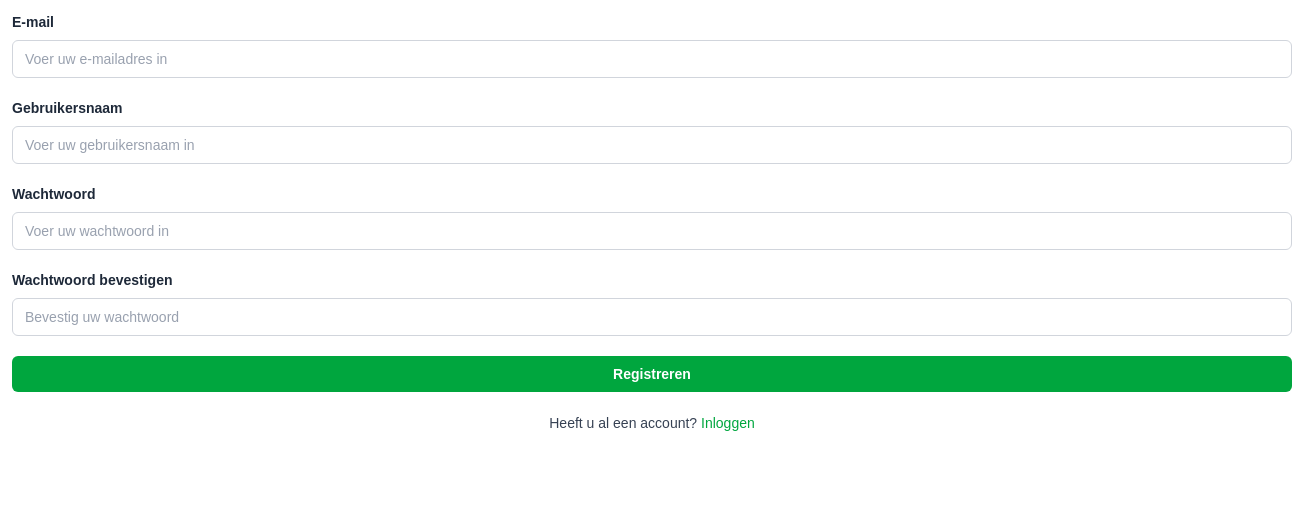
RegisterForm › shows server-provided message on 400 response
Type "user@example.com" into the field with test id "email-input" at [652, 59], box x1=12 y1=40 x2=1292 y2=78
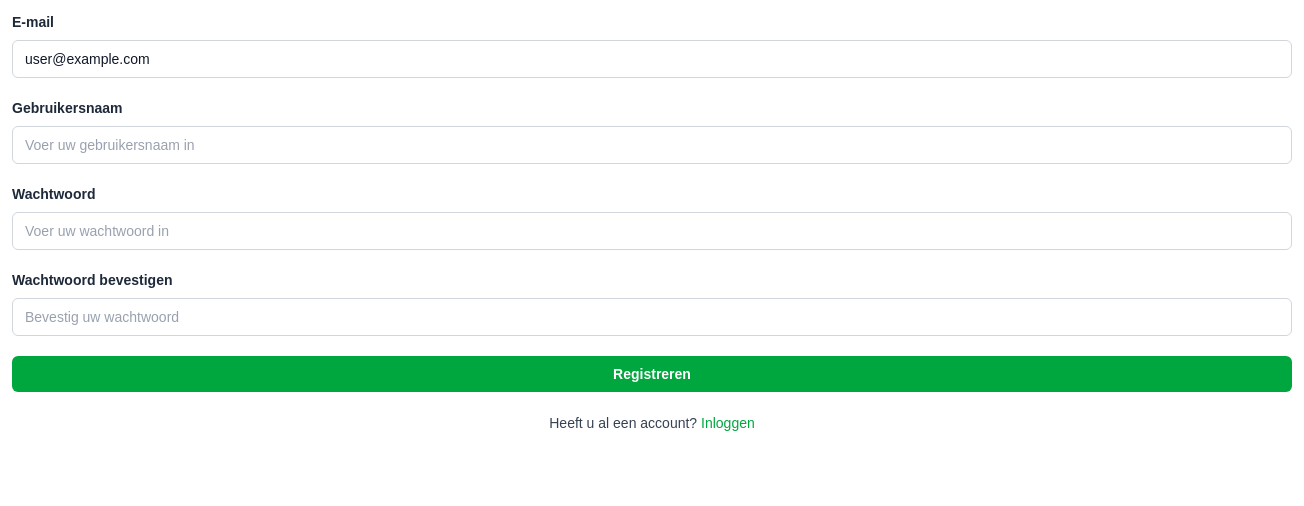
Type "testuser" into the field with test id "username-input" at [652, 145], box x1=12 y1=126 x2=1292 y2=164
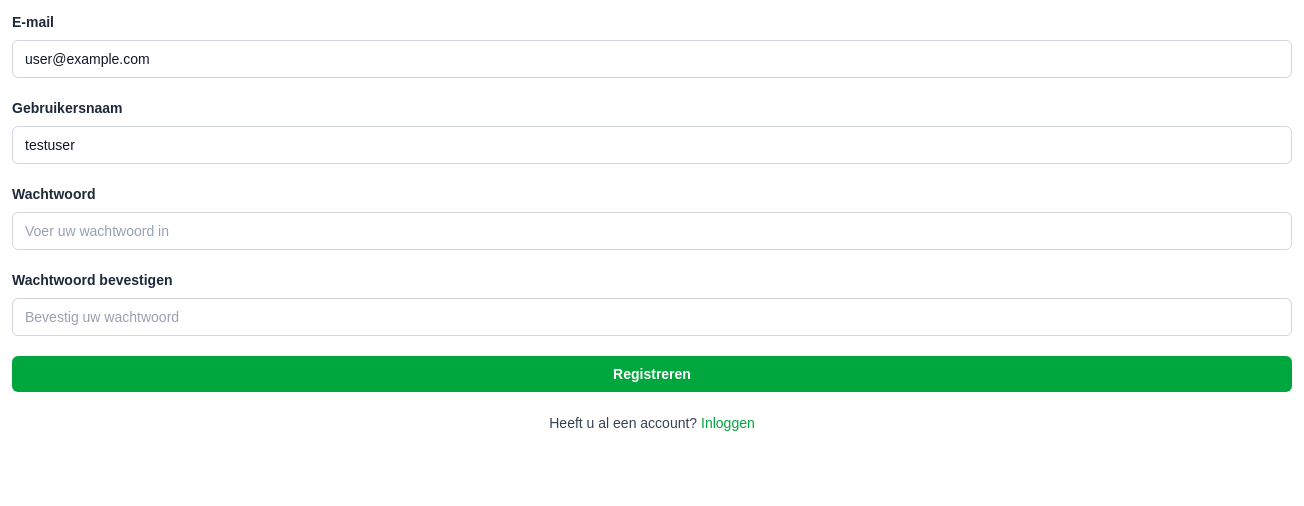
Type "password123" into the password field with test id "password-input" at [652, 231], box x1=12 y1=212 x2=1292 y2=250
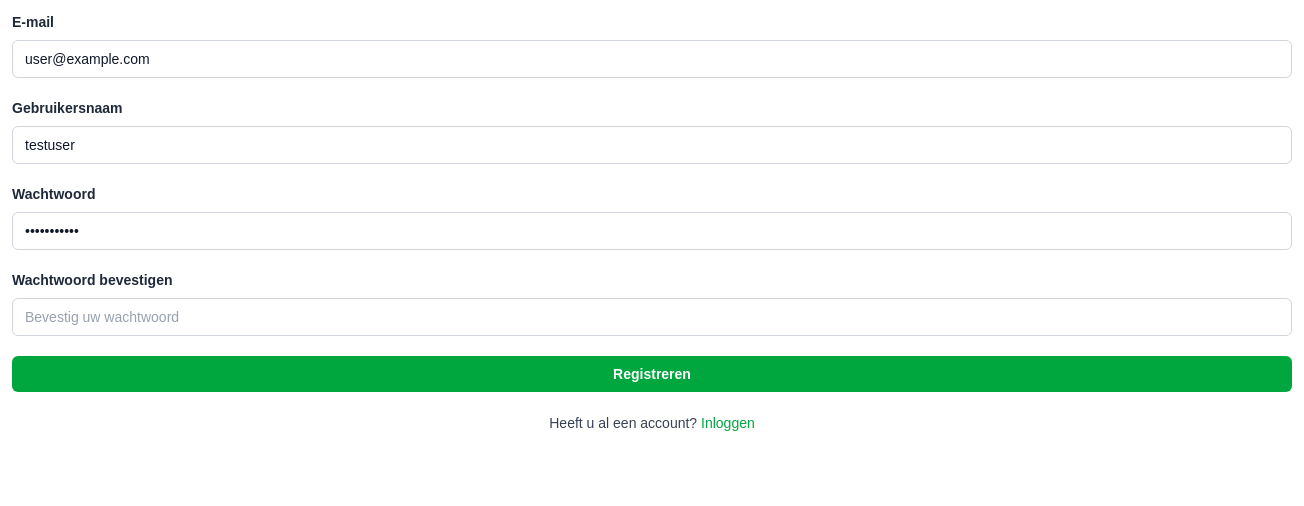
Type "password123" into the password field with test id "confirm-password-input" at [652, 317], box x1=12 y1=298 x2=1292 y2=336
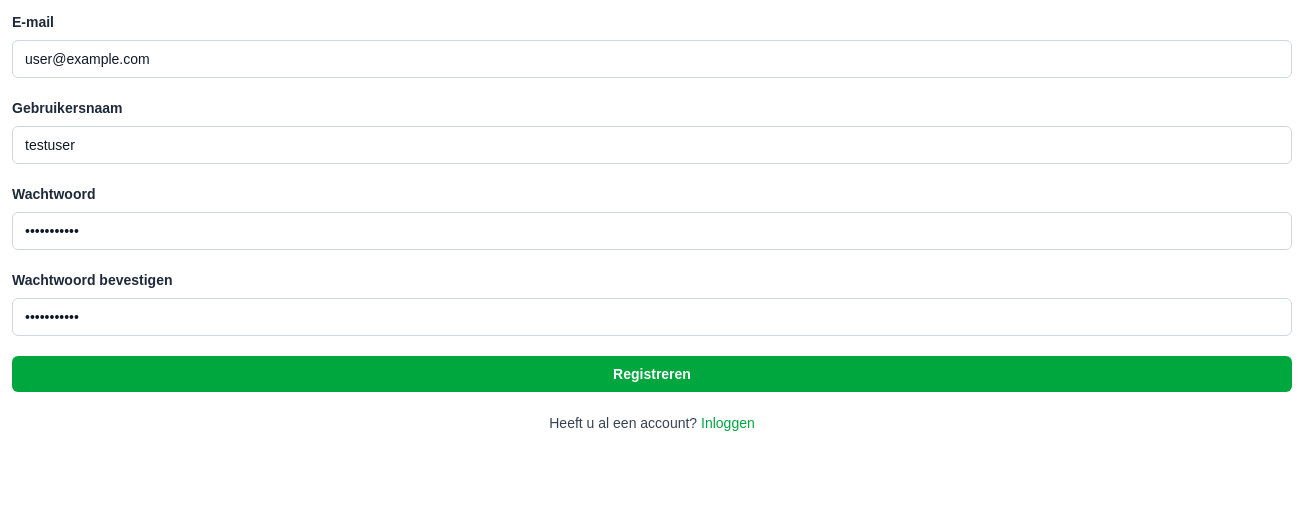
Click the button with test id "register-button" at [652, 374], box x1=12 y1=356 x2=1292 y2=392
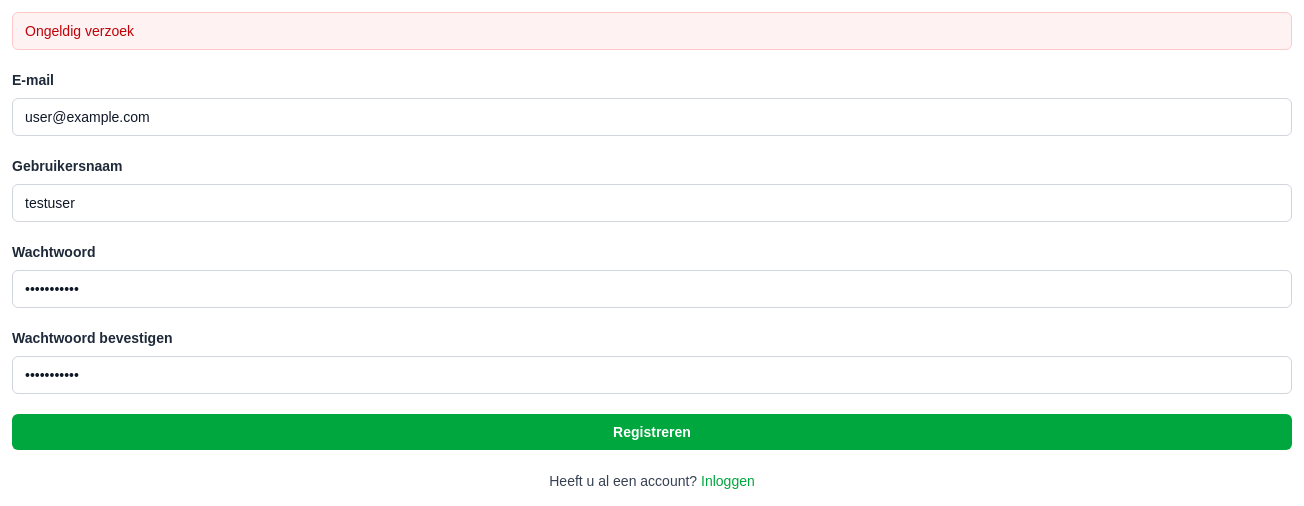
Expected: the message "Ongeldig verzoek" is shown, x1=12 y1=12 x2=1292 y2=50
Expected: the message with test id "register-error" reads "Ongeldig verzoek", x1=25 y1=23 x2=134 y2=39
